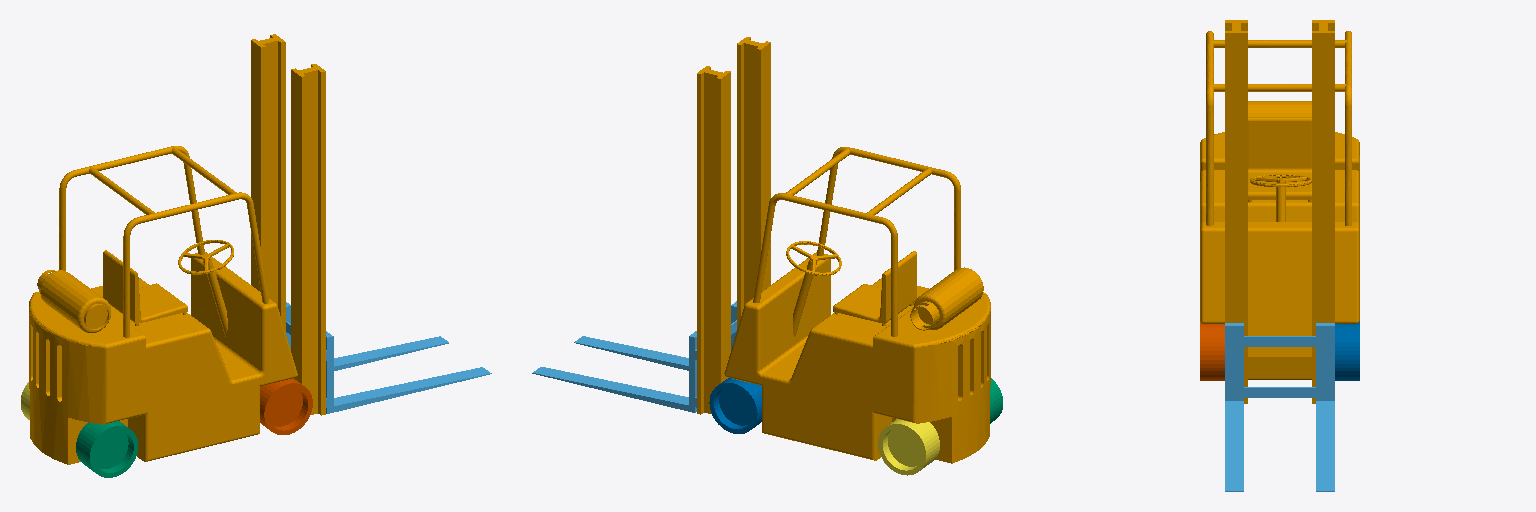
robot.urdf — forklift_robot:
<?xml version="1.0"?>
<robot name="forklift_robot">
  <link name="base_link">
    <visual>
      <origin xyz="-1.0795 -0.5334 0" rpy="0 0 0" />
      <geometry>
        <mesh filename="package://forklift_robot_description/meshes/base_link.dae"/> 
      </geometry>
    </visual>
    <collision>
      <origin xyz="0 0 1.3716" rpy="0 0 0" />
      <geometry>
        <box size="2.159 1.0668 2.7432"/>
      </geometry>
    </collision>
    <inertial>
      <mass value="500"/>
      <inertia ixx="206" ixy="0" ixz="-23" iyy="389" iyz="0" izz="316"/>
    </inertial>
  </link>
  
  <link name="fork">
    <visual>
      <geometry>
        <mesh filename="package://forklift_robot_description/meshes/fork.dae"/> 
      </geometry>
    </visual>
    <collision>
      <geometry>
        <mesh filename="package://forklift_robot_description/meshes/fork.dae"/> 
      </geometry>
    </collision>
    <inertial>
      <mass value="100"/>
      <inertia ixx="0.2" ixy="0" ixz="0" iyy="0.3" iyz="0" izz="0.4"/>
    </inertial>
  </link>

  <link name="wheel_back_left">
    <visual>
      <origin xyz="-0.2032 0 -0.2032" rpy="0 0 0" />
      <geometry>
        <mesh filename="package://forklift_robot_description/meshes/wheel.dae"/> 
      </geometry>
    </visual>
    <collision>
      <origin xyz="0 0.1 0" rpy="1.571 0 0" />
      <geometry>
        <cylinder length="0.2" radius="0.21"/> 
      </geometry>
    </collision>
    <inertial>
      <mass value="5"/>
      <inertia ixx="0.001" ixy="0" ixz="0" iyy="0.0015" iyz="0" izz="0.001"/>
    </inertial>
  </link>
  
  <link name="wheel_back_right">
    <visual>
      <origin xyz="-0.2032 0 -0.2032" rpy="0 0 0" />
      <geometry>
        <mesh filename="package://forklift_robot_description/meshes/wheel.dae"/> 
      </geometry>
    </visual>
    <collision>
      <origin xyz="0 0.1 0" rpy="1.571 0 0" />
      <geometry>
        <cylinder length="0.2" radius="0.21"/> 
      </geometry>
    </collision>
    <inertial>
      <mass value="5"/>
      <inertia ixx="0.001" ixy="0" ixz="0" iyy="0.0015" iyz="0" izz="0.001"/>
    </inertial>
  </link>
  
  <link name="wheel_front_left">
    <visual>
      <origin xyz="-0.2032 0 -0.2032" rpy="0 0 0" />
      <geometry>
        <mesh filename="package://forklift_robot_description/meshes/wheel.dae"/> 
      </geometry>
    </visual>
    <collision>
      <origin xyz="0 0.1 0" rpy="1.571 0 0" />
      <geometry>
        <cylinder length="0.2" radius="0.21"/> 
      </geometry>
    </collision>
    <inertial>
      <mass value="5"/>
      <inertia ixx="0.001" ixy="0" ixz="0" iyy="0.0015" iyz="0" izz="0.001"/>
    </inertial>
  </link>
  
  <link name="wheel_front_right">
    <visual>
      <origin xyz="-0.2032 0 -0.2032" rpy="0 0 0" />
      <geometry>
        <mesh filename="package://forklift_robot_description/meshes/wheel.dae"/> 
      </geometry>
    </visual>
    <collision>
      <origin xyz="0 0.1 0" rpy="1.571 0 0" />
      <geometry>
        <cylinder length="0.2" radius="0.21"/> 
      </geometry>
    </collision>
    <inertial>
      <mass value="5"/>
      <inertia ixx="0.001" ixy="0" ixz="0" iyy="0.0015" iyz="0" izz="0.001"/>
    </inertial>
  </link>

  <joint name="base_to_fork" type="prismatic">
    <parent link="base_link"/>
    <child link="fork"/>
    <limit 
      lower="0" 
      upper="2" 
      velocity="0.1"
      effort="100"
    />
    <origin xyz="1.0795 -0.3686 0.0"/>
    <axis xyz="0 0 1"/>
  </joint>

  <joint name="base_to_wheel_back_left" type="continuous">
    <parent link="base_link"/>
    <child link="wheel_back_left"/>
    <limit 
      velocity="10"
      effort="1000"
    />
    <origin xyz="-0.7865 -0.5334 0.2032"/>
    <axis xyz="0 1 0"/>
  </joint>

  <joint name="base_to_wheel_back_right" type="continuous">
    <parent link="base_link"/>
    <child link="wheel_back_right"/>
    <limit 
      velocity="10"
      effort="1000"
    />
    <origin xyz="-0.7502 0.3302 0.2032"/>
    <axis xyz="0 1 0"/>
  </joint>

  <joint name="base_to_wheel_front_left" type="continuous">
    <parent link="base_link"/>
    <child link="wheel_front_left"/>
    <limit 
      velocity="10"
      effort="1000"
    />
    <origin xyz="0.6722 0.3302 0.2032"/>
    <axis xyz="0 1 0"/>
  </joint>

  <joint name="base_to_wheel_front_right" type="continuous">
    <parent link="base_link"/>
    <child link="wheel_front_right"/>
    <limit 
      velocity="10"
      effort="1000"
    />
    <origin xyz="0.6722 -0.5334 0.2032"/>
    <axis xyz="0 1 0"/>
  </joint>

  <sensor name="camera_sensor" update_rate="20">
    <parent link="base_link"/>
    <origin xyz="0 0 1.5" rpy="0 0 0" />
    <camera>
      <image width="640" height="480" hfov="1.5708" format="RGB8" near="0.01" far="50.0"/>
    </camera>
  </sensor>

  <sensor name="ray_sensor" update_rate="20">
   <parent link="basse_link"/>
   <origin xyz="0 0 1.5" rpy="0 0 0"/>
   <ray>
     <horizontal samples="100" resolution="1" min_angle="-1.5708" max_angle="1.5708"/>
     <vertical samples="1" resolution="1" min_angle="0" max_angle="0"/>
   </ray>
 </sensor>
</robot>

--- Facts derived from the render (not from the file) ---
3 views of the same robot in one strip: view 1: azimuth 30°, elevation 25°; view 2: azimuth 150°, elevation 25°; view 3: azimuth 270°, elevation 25° (orthographic).
Model forklift_robot with 6 links and 5 joints (4 continuous, 1 prismatic), rooted at base_link, posed all joints at 0.
Links seen in each view (by area): view 1: base_link, fork, wheel_back_left, wheel_front_right; view 2: base_link, fork, wheel_back_right, wheel_front_left; view 3: base_link, fork, wheel_front_left, wheel_front_right.
Link boxes in pixels (box(x1,y1,x2,y2)): base_link: box(29, 34, 325, 464); fork: box(286, 302, 491, 413); wheel_back_left: box(76, 421, 137, 477); wheel_front_right: box(260, 378, 312, 434); base_link: box(697, 37, 990, 463); fork: box(532, 301, 736, 412); wheel_back_right: box(878, 419, 939, 475); wheel_front_left: box(709, 378, 761, 433); base_link: box(1200, 20, 1359, 403); fork: box(1225, 323, 1334, 491); wheel_front_left: box(1335, 321, 1359, 380); wheel_front_right: box(1200, 321, 1224, 380).
Size in the robot's own frame: 3.54 by 1.07 by 2.74 metres.
6 mesh visuals loaded from 3 distinct referenced files (3 Collada DAE).